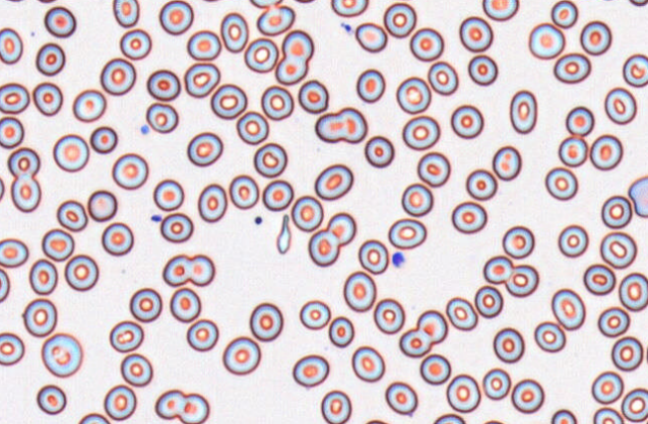PLT: (392, 252, 407, 268), (150, 212, 164, 222), (140, 123, 150, 134)
RBC: (275, 29, 313, 85), (314, 106, 367, 143), (40, 332, 82, 377), (162, 253, 215, 287), (222, 335, 261, 375), (599, 231, 637, 269), (314, 163, 353, 200), (52, 133, 89, 172), (551, 288, 585, 330), (111, 152, 148, 190), (22, 297, 57, 337), (343, 270, 376, 312), (528, 22, 565, 59), (100, 57, 136, 95), (395, 76, 431, 114), (401, 115, 440, 150), (446, 373, 480, 413), (183, 62, 220, 98), (210, 83, 247, 119), (249, 302, 283, 341), (458, 15, 493, 52), (186, 131, 223, 166), (64, 253, 98, 291), (351, 345, 385, 382), (589, 133, 623, 170), (604, 86, 637, 124), (256, 4, 295, 36), (387, 217, 426, 249), (509, 89, 537, 133), (158, 0, 193, 35), (244, 37, 278, 73), (253, 142, 287, 178), (451, 200, 487, 234), (416, 151, 450, 187), (260, 84, 294, 120), (292, 354, 329, 387), (553, 52, 591, 84), (10, 173, 41, 212), (409, 27, 444, 61), (510, 378, 544, 413), (103, 384, 136, 420), (383, 2, 416, 38), (307, 229, 339, 266), (373, 297, 405, 334), (492, 326, 524, 363), (618, 272, 648, 311), (197, 183, 227, 222), (544, 166, 578, 200), (72, 88, 106, 122), (504, 264, 539, 297), (236, 110, 269, 145), (129, 287, 162, 322), (450, 104, 483, 139), (291, 195, 323, 231), (611, 335, 643, 371), (220, 11, 248, 52), (120, 353, 153, 387), (384, 381, 417, 415), (591, 370, 624, 404), (169, 287, 201, 322), (109, 320, 144, 352), (186, 29, 221, 61), (600, 194, 632, 229), (579, 20, 611, 55), (41, 228, 74, 261), (43, 5, 76, 38), (445, 296, 477, 330), (101, 221, 133, 255), (401, 182, 433, 216), (502, 225, 534, 259), (146, 69, 180, 101), (416, 309, 447, 344), (320, 389, 351, 424), (228, 174, 259, 209), (427, 60, 458, 95), (32, 81, 63, 116), (358, 238, 388, 274), (29, 258, 58, 295), (7, 146, 40, 178), (186, 318, 218, 351), (152, 178, 184, 211), (119, 28, 152, 60), (583, 263, 616, 295), (297, 79, 328, 113), (355, 68, 385, 103), (177, 392, 209, 424), (419, 353, 451, 385), (465, 168, 497, 200), (533, 320, 565, 352), (160, 212, 193, 243), (597, 306, 630, 337), (145, 102, 178, 133), (557, 224, 588, 257), (326, 211, 356, 245), (35, 42, 65, 76), (492, 145, 521, 180), (56, 199, 87, 231), (262, 179, 293, 211), (398, 327, 431, 357), (354, 22, 387, 52), (364, 135, 394, 168), (474, 284, 503, 318), (620, 387, 648, 422), (299, 299, 330, 330), (558, 135, 588, 167), (87, 189, 117, 221), (0, 82, 30, 114), (467, 54, 497, 86), (482, 367, 511, 400), (154, 389, 185, 419), (482, 254, 513, 284), (36, 384, 66, 415), (565, 105, 594, 136), (622, 53, 648, 87), (0, 331, 25, 366), (0, 237, 28, 268), (0, 27, 23, 64), (628, 175, 648, 217), (328, 315, 354, 347), (0, 115, 24, 148), (550, 0, 578, 28), (89, 125, 117, 153), (482, 0, 519, 21), (112, 0, 139, 27), (330, 0, 368, 17), (592, 406, 624, 424), (550, 408, 577, 424), (77, 412, 110, 424), (431, 413, 466, 424), (0, 267, 10, 303), (248, 0, 283, 8), (362, 418, 393, 424), (0, 173, 5, 203), (479, 419, 509, 424), (627, 0, 648, 6), (645, 336, 648, 368), (291, 0, 318, 3), (35, 0, 58, 3), (197, 0, 229, 2), (1, 0, 27, 2)
Schistocyte: (274, 213, 292, 255)
